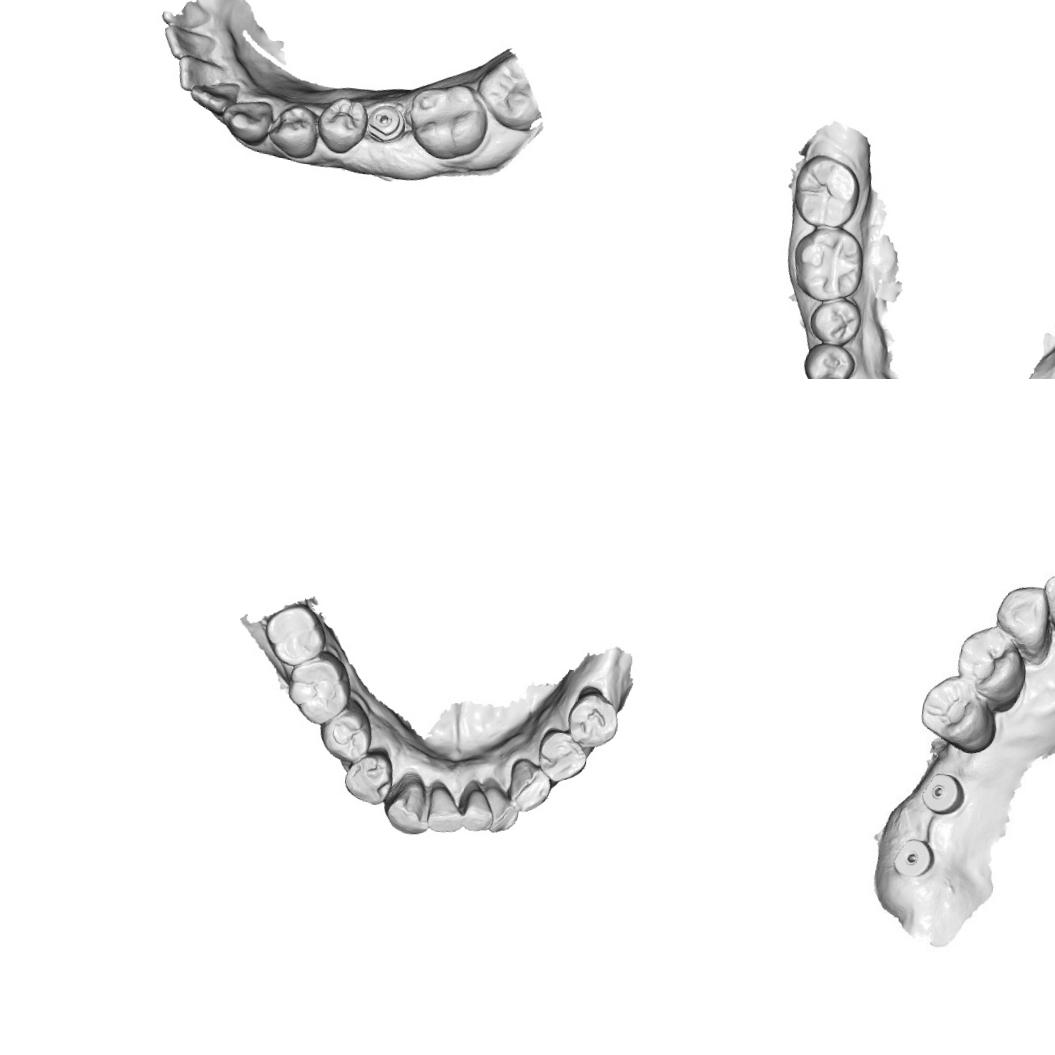canine: (991, 582, 1055, 659), (382, 776, 436, 838), (216, 95, 274, 150), (506, 756, 554, 814)
implant: (888, 831, 939, 890), (916, 771, 965, 818)
implant_minus: (363, 100, 408, 146)
incisor: (160, 22, 220, 65), (174, 53, 229, 96), (188, 75, 241, 119), (425, 781, 467, 836), (481, 784, 522, 836), (459, 786, 497, 834), (1039, 566, 1055, 640)
molar: (404, 78, 493, 166), (788, 220, 868, 306), (790, 150, 864, 232), (283, 647, 356, 728), (260, 599, 330, 670)
premolar: (919, 672, 995, 749), (954, 623, 1028, 698), (315, 693, 376, 765), (314, 92, 372, 158), (564, 686, 622, 752), (265, 100, 323, 161), (534, 725, 591, 786), (341, 747, 396, 807), (807, 294, 864, 348), (799, 340, 857, 379)
